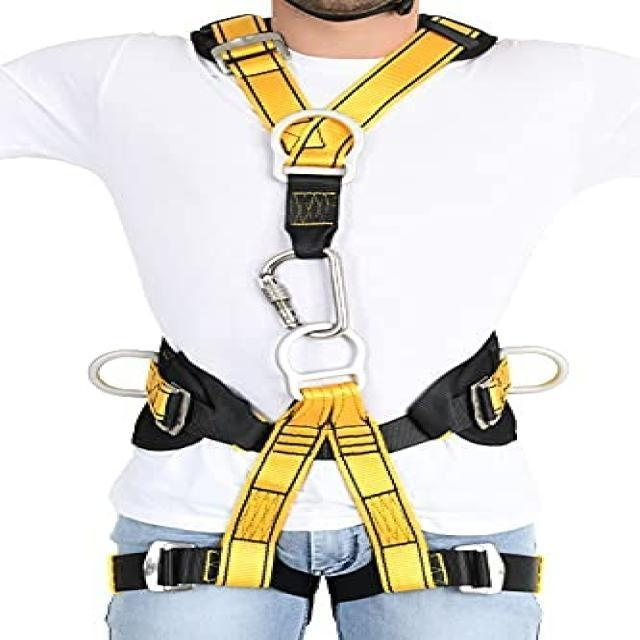Arnes_seguridad: (90, 11, 564, 602)
